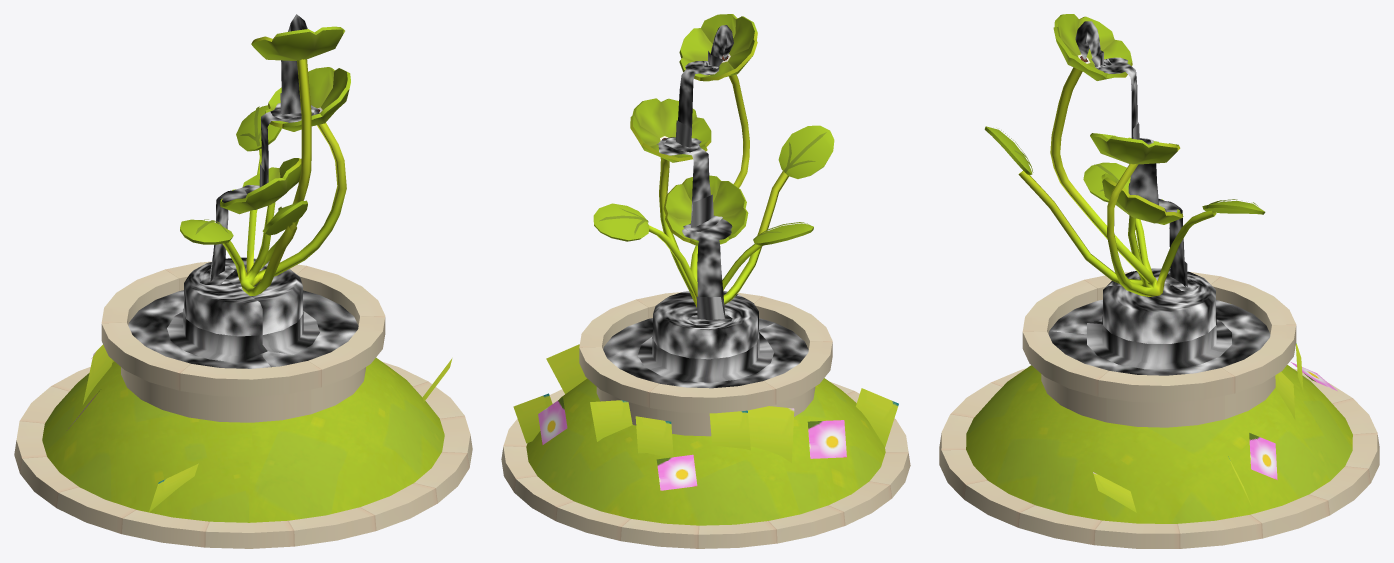
3 renders of one model, left to right at view 1: azimuth 30°, elevation 25°; view 2: azimuth 150°, elevation 25°; view 3: azimuth 270°, elevation 25°, orthographic. The views are drawn at different scales.
Parts seen in each view (by area): view 1: B_Main_Fountain_Skin02, B_Main_Fountain_Skin02_Water Variant, B_Main_Fountain_Skin02_Grass; view 2: B_Main_Fountain_Skin02, B_Main_Fountain_Skin02_Water Variant, B_Main_Fountain_Skin02_Grass; view 3: B_Main_Fountain_Skin02, B_Main_Fountain_Skin02_Water Variant, B_Main_Fountain_Skin02_Grass.
Part boxes in pixels (x1,y1,x2,y2): B_Main_Fountain_Skin02: (14, 26, 472, 548); B_Main_Fountain_Skin02_Water Variant: (128, 14, 358, 368); B_Main_Fountain_Skin02_Grass: (68, 344, 452, 512); B_Main_Fountain_Skin02: (501, 14, 910, 548); B_Main_Fountain_Skin02_Water Variant: (603, 25, 808, 388); B_Main_Fountain_Skin02_Grass: (513, 344, 898, 490); B_Main_Fountain_Skin02: (939, 14, 1379, 548); B_Main_Fountain_Skin02_Water Variant: (1048, 21, 1270, 375); B_Main_Fountain_Skin02_Grass: (1093, 343, 1337, 512).
Size of the model in its own units: 4.83 by 5.36 by 4.83.
